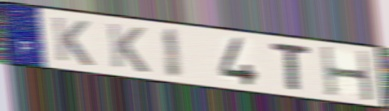4: (219, 36, 259, 87)
H: (319, 45, 376, 104)
I: (163, 26, 184, 81)
K: (49, 15, 95, 69), (105, 21, 150, 75)
T: (269, 40, 313, 93)
